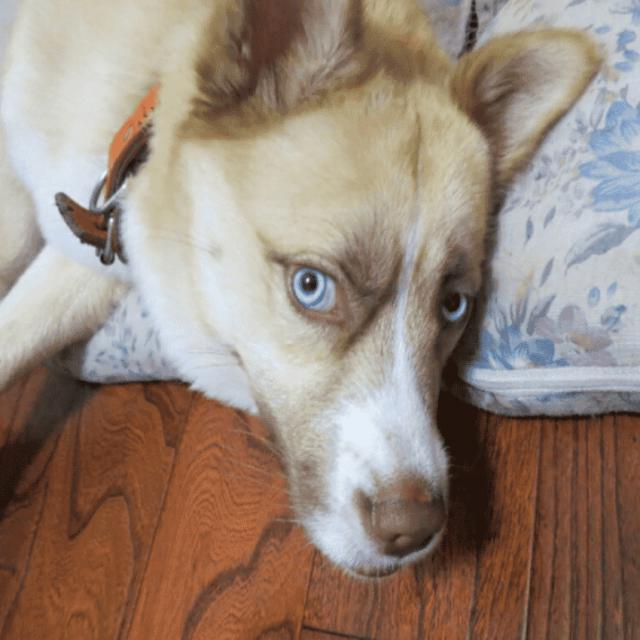eye: (280, 252, 348, 323), (436, 280, 476, 334)
